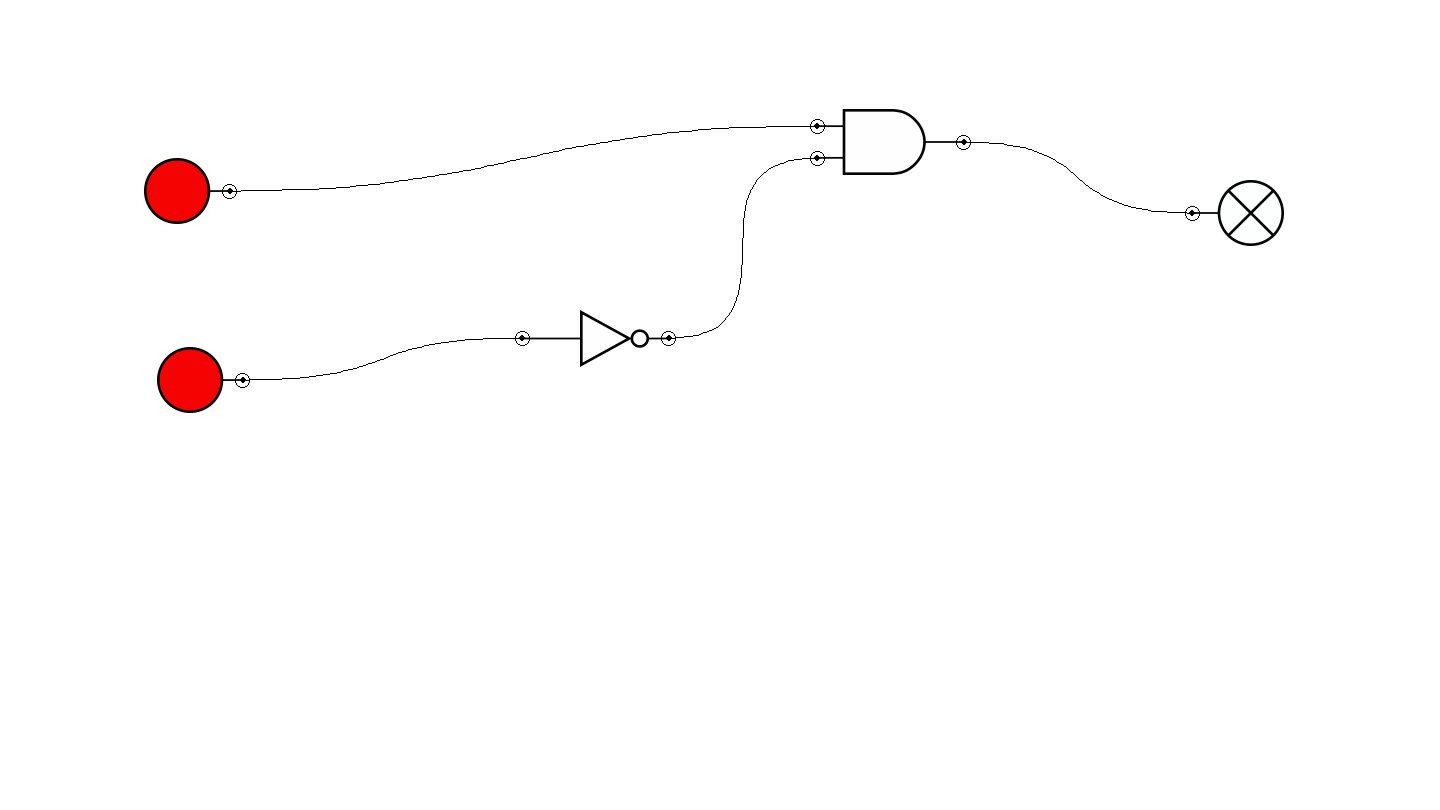and: (810, 109, 971, 175)
bulb: (1185, 180, 1284, 246)
not: (515, 310, 676, 367)
switch_False: (144, 158, 237, 224), (157, 347, 250, 413)
